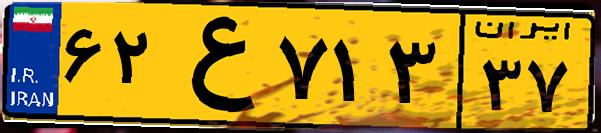1: (330, 28, 385, 110)
2: (110, 28, 158, 98)
3: (385, 28, 445, 110), (475, 38, 525, 113)
6: (57, 26, 110, 100)
7: (270, 28, 330, 110), (525, 38, 570, 115)
ع: (158, 12, 270, 120)
